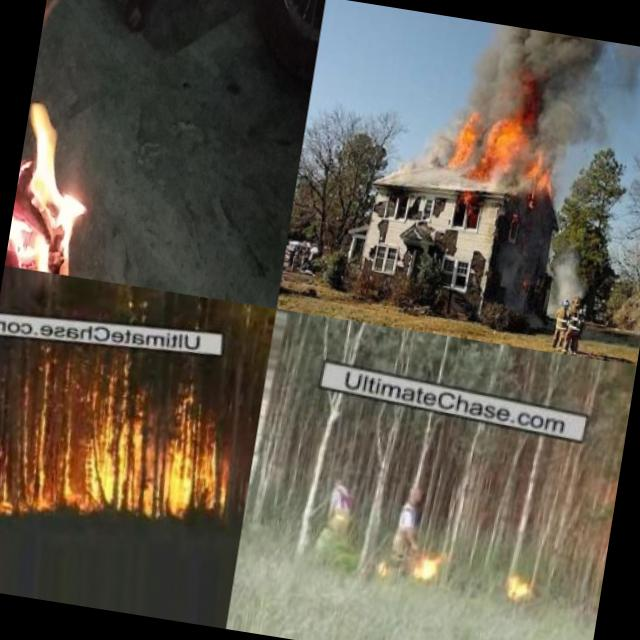fire: (0, 358, 240, 547), (4, 0, 119, 276), (449, 105, 563, 196), (406, 545, 453, 583), (499, 564, 538, 608)
smoke: (464, 21, 640, 130), (544, 245, 596, 301), (413, 121, 458, 170), (558, 120, 616, 158)
